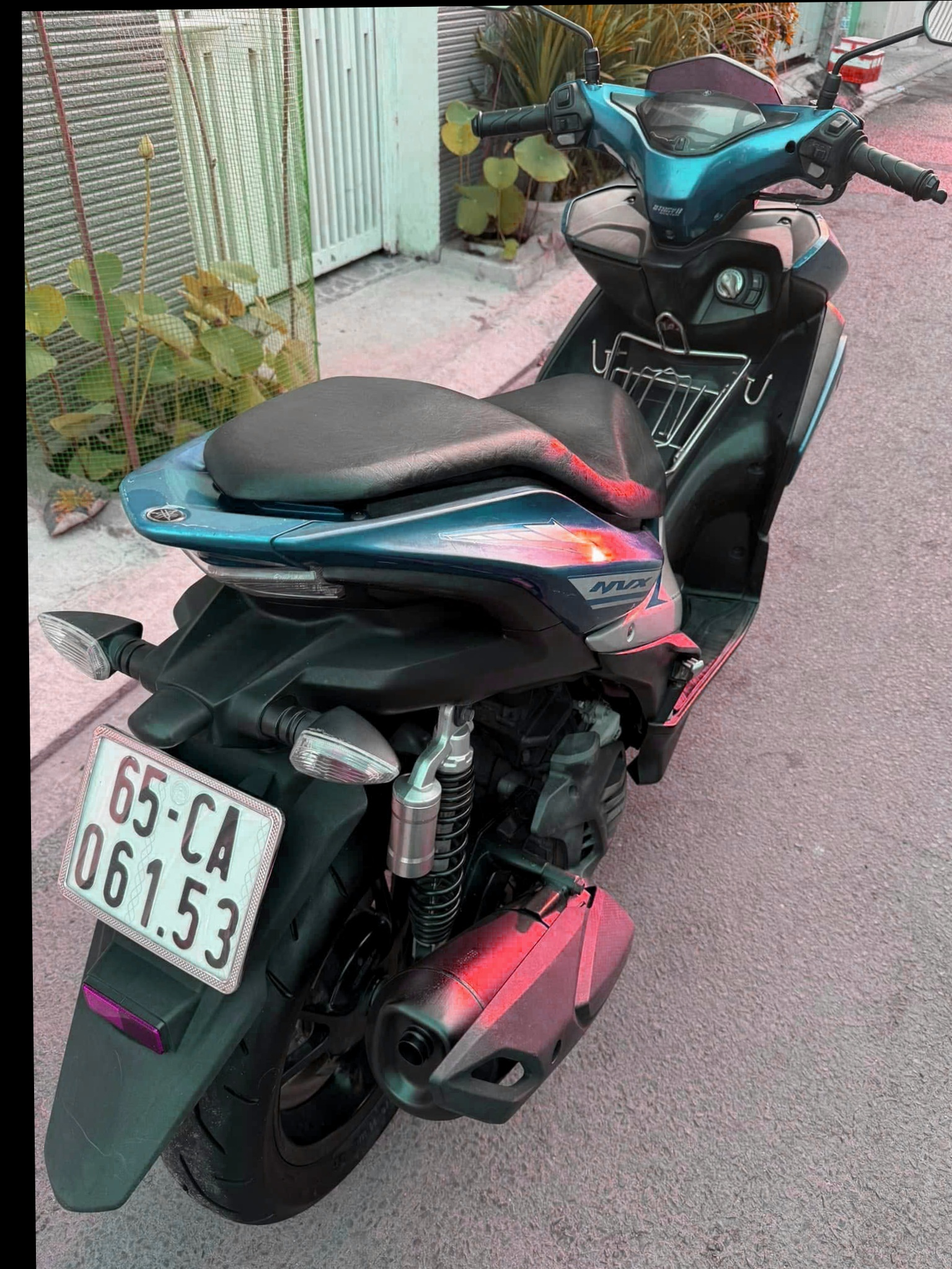Bien-so: (4, 670, 238, 948)
